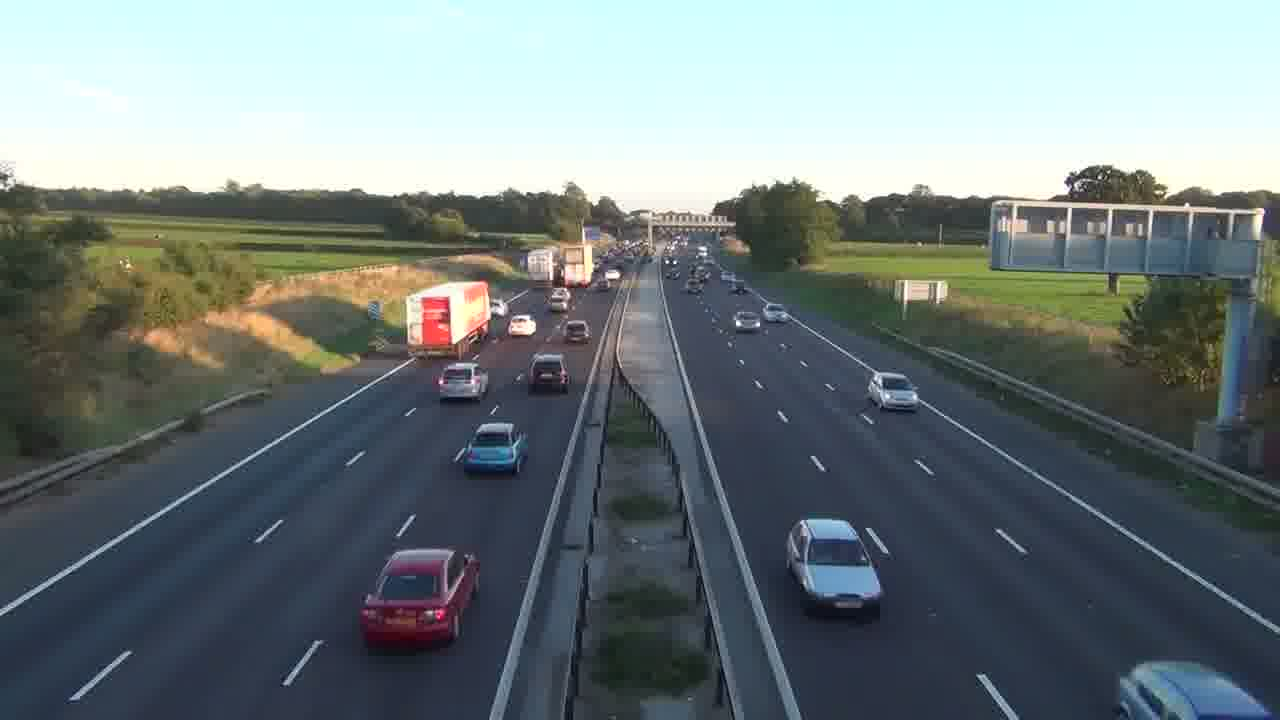bus: (405, 280, 491, 358)
car: (357, 547, 481, 652), (784, 516, 892, 615), (1113, 659, 1278, 719), (456, 421, 529, 476), (865, 371, 919, 411), (435, 362, 487, 402), (528, 351, 570, 395), (563, 320, 592, 344), (507, 313, 536, 337)
